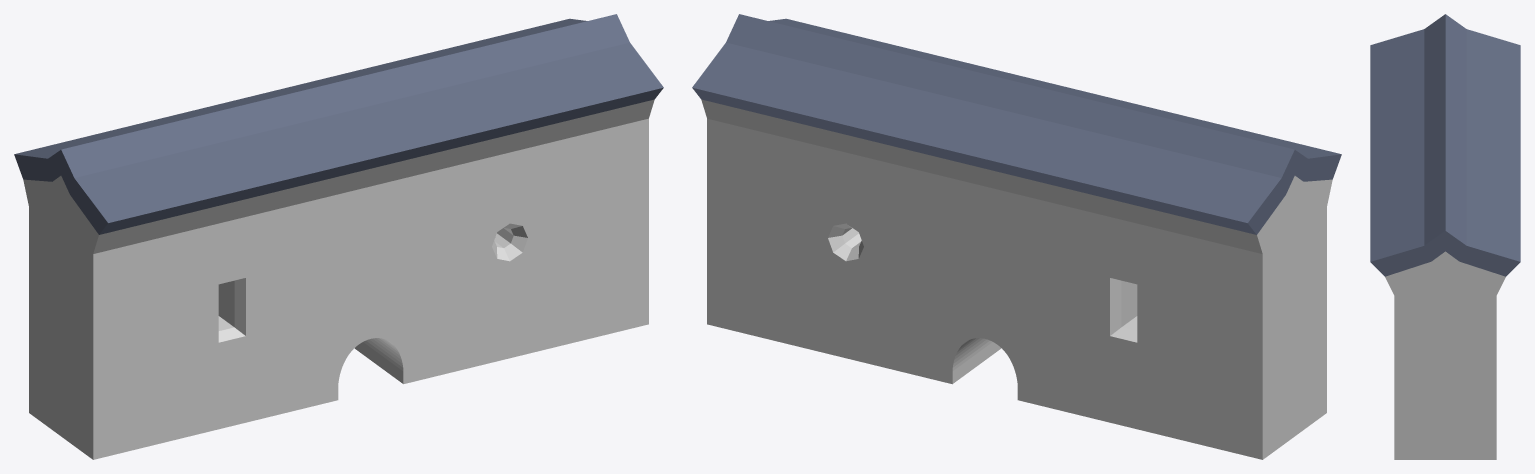
File: wall-japan_small.fbx
3 renders of one model, left to right at view 1: azimuth 30°, elevation 25°; view 2: azimuth 150°, elevation 25°; view 3: azimuth 270°, elevation 25°, orthographic. The views are drawn at different scales.
Visible parts, largest first — view 1: Cube; view 2: Cube; view 3: Cube.
Boxes of the visible parts, <box> form: Cube: <box>14,14,663,459</box>; Cube: <box>692,14,1341,459</box>; Cube: <box>1370,14,1520,459</box>.
Size of the model in its own units: 500 by 247 by 147.
